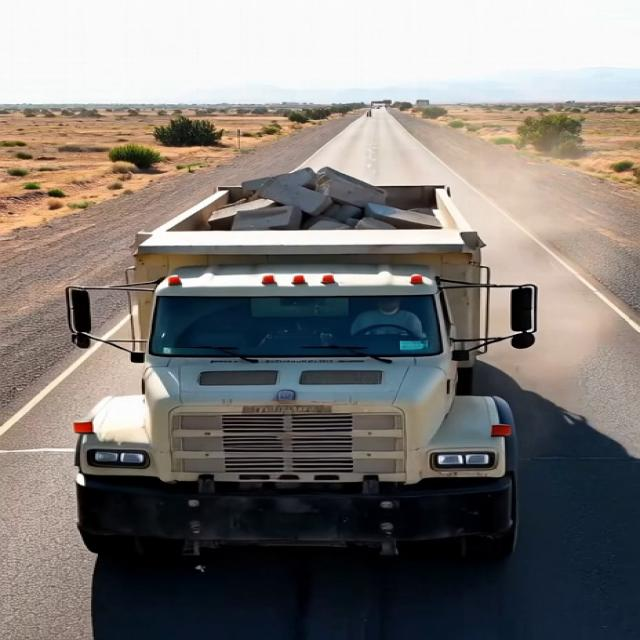Box: (116, 167, 492, 257)
Truck: (54, 160, 596, 557)
